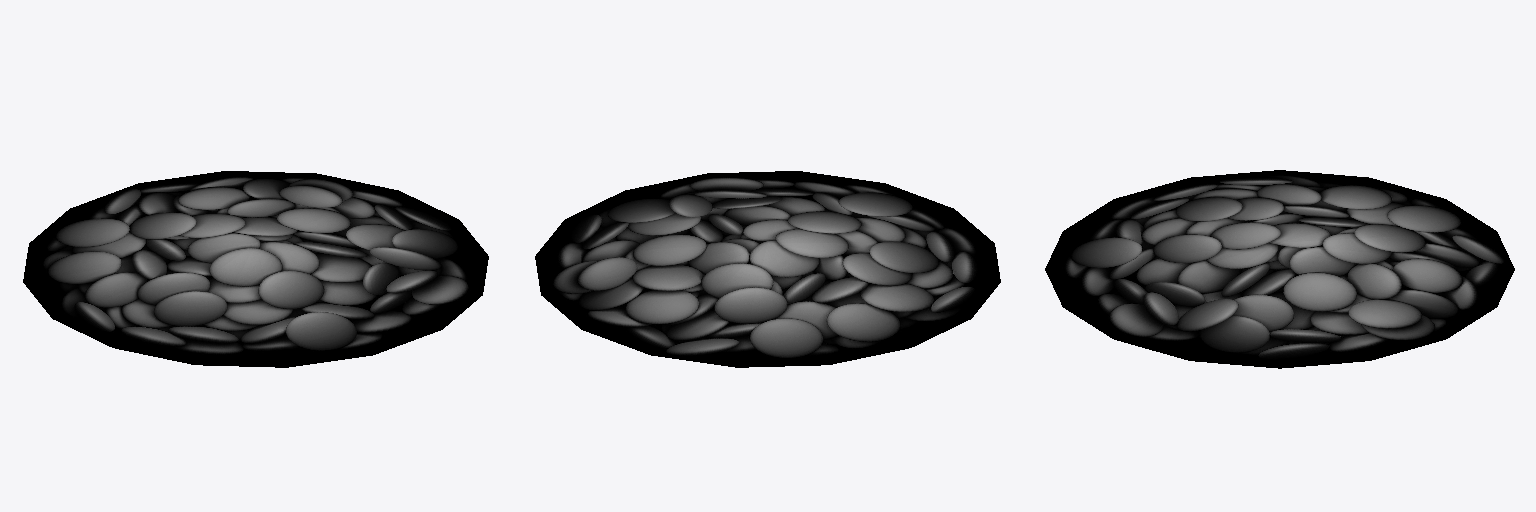
3 views of the same model, side by side, from view 1: azimuth 30°, elevation 25°; view 2: azimuth 150°, elevation 25°; view 3: azimuth 270°, elevation 25° (orthographic).
Parts seen in each view (by area): view 1: go_stones; view 2: go_stones; view 3: go_stones.
Part boxes in pixels (x1,y1,x2,y2): go_stones: (23,171,488,367); go_stones: (535,171,1000,367); go_stones: (1045,170,1514,368).
Bounding box in the file's own units: 0.1293 × 0.0081 × 0.1293.
1 materials, 1 textured.